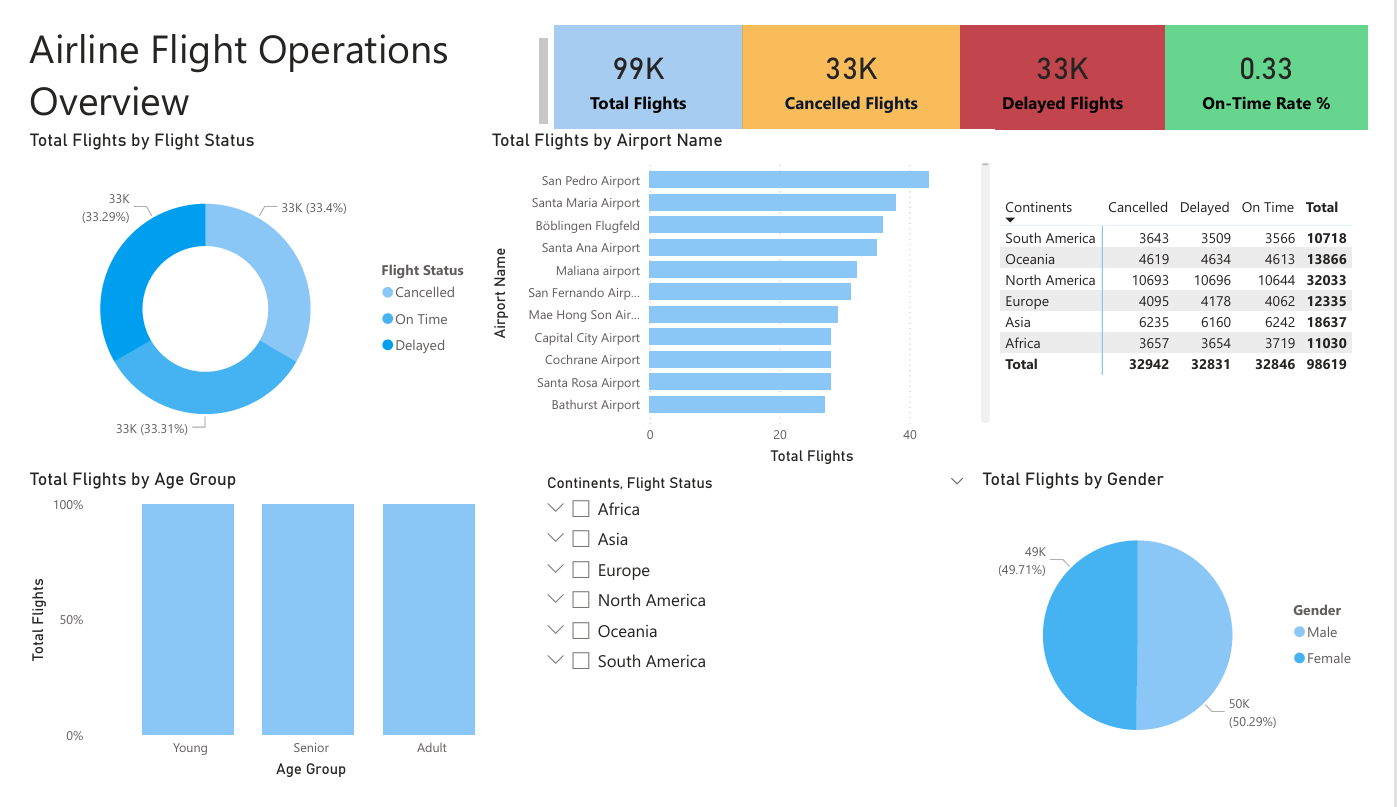

The dashboard page shown, as its layout file describes it:
{"tool":"powerbi","page":{"name":"Page 1","canvas":[1280,720],"ordinal":0},"visuals":[{"type":"card","fields":{"Values":["Flights.Total Flights"]},"box":[484.5,0,199.9,99.1],"z":0},{"type":"card","fields":{"Values":["Flights.Cancelled Flights"]},"box":[684.4,0,206.3,99.1],"z":1000},{"type":"card","fields":{"Values":["Flights.Delayed Flights"]},"box":[890.7,0,195.1,99.1],"z":2000},{"type":"card","fields":{"Values":["Flights.On-Time Rate %"]},"box":[1085.8,0,193.5,99.1],"z":3000},{"type":"donutChart","fields":{"Category":["Flights.Flight Status"],"Y":["Flights.Total Flights"]},"box":[0,99.1,439.8,323],"z":4000},{"type":"clusteredBarChart","fields":{"Category":["Flights.Airport Name"],"Y":["Flights.Total Flights"]},"box":[439.8,99.1,484.5,323],"z":5000},{"type":"pivotTable","fields":{"Rows":["Flights.Continents"],"Columns":["Flights.Flight Status"],"Values":["Flights.Total Flights"]},"box":[924.3,99.1,355,323],"z":6000},{"type":"hundredPercentStackedColumnChart","fields":{"Category":["Flights.Age Group"],"Y":["Flights.Total Flights"]},"box":[0,422,485,298],"z":7000},{"type":"slicer","fields":{"Values":["Flights.Continents","Flights.Flight Status"]},"box":[484.5,422.2,422.2,297.4],"z":8000},{"type":"actionButton","box":[0,0,100,40],"z":9000},{"type":"pieChart","fields":{"Category":["Flights.Gender"],"Y":["Flights.Total Flights"]},"box":[906.7,422.2,372.6,297.4],"z":10000},{"type":"textbox","box":[0,0,484.5,99.1],"z":11000}]}

Visuals, with their boxes in screenshot pixels (x1, y1, x2, y2), scaled from the page's 1280x720 canvas onto the 1397x807 screenshot:
card - Flights.Total Flights: crop(529, 0, 747, 111)
card - Flights.Cancelled Flights: crop(747, 0, 972, 111)
card - Flights.Delayed Flights: crop(972, 0, 1185, 111)
card - Flights.On-Time Rate %: crop(1185, 0, 1396, 111)
donutChart - Flights.Flight Status x Flights.Total Flights: crop(0, 111, 480, 473)
clusteredBarChart - Flights.Airport Name x Flights.Total Flights: crop(480, 111, 1009, 473)
pivotTable - Flights.Continents x Flights.Flight Status: crop(1009, 111, 1396, 473)
hundredPercentStackedColumnChart - Flights.Age Group x Flights.Total Flights: crop(0, 473, 529, 806)
slicer - Flights.Continents x Flights.Flight Status: crop(529, 473, 990, 806)
actionButton: crop(0, 0, 109, 45)
pieChart - Flights.Gender x Flights.Total Flights: crop(990, 473, 1396, 806)
textbox: crop(0, 0, 529, 111)
